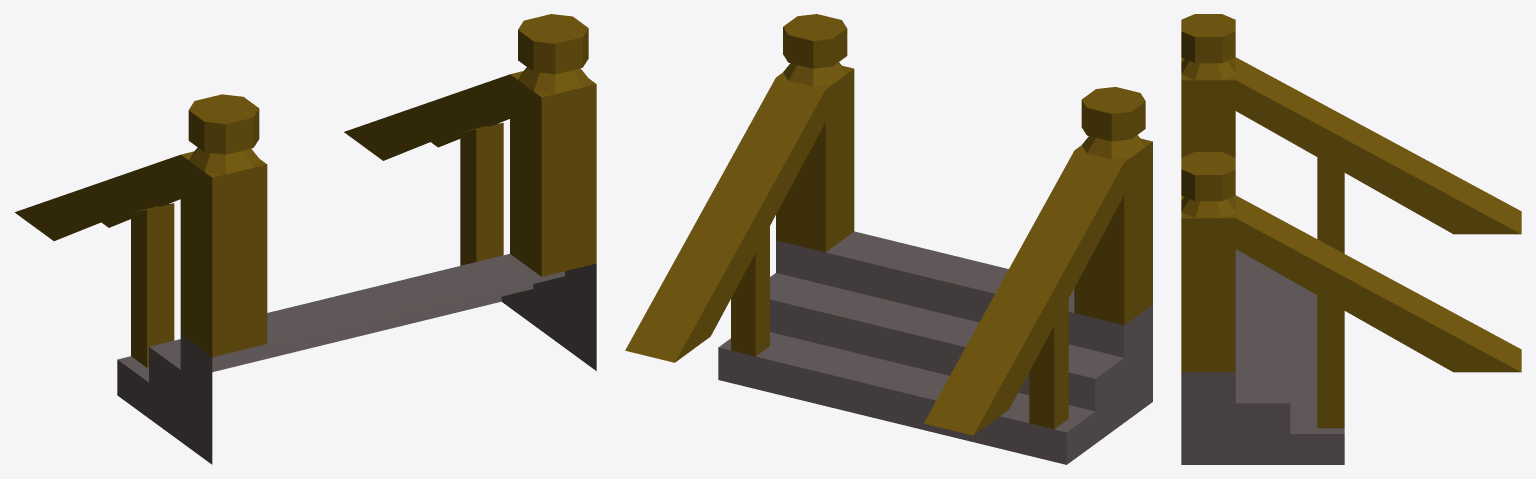
File: obj_stairs_4_0.obj
3 renders of one model, left to right at view 1: azimuth 30°, elevation 25°; view 2: azimuth 150°, elevation 25°; view 3: azimuth 270°, elevation 25°, orthographic. The views are drawn at different scales.
Bounding box in the file's own units: 1.75 × 1.47 × 1.56.
